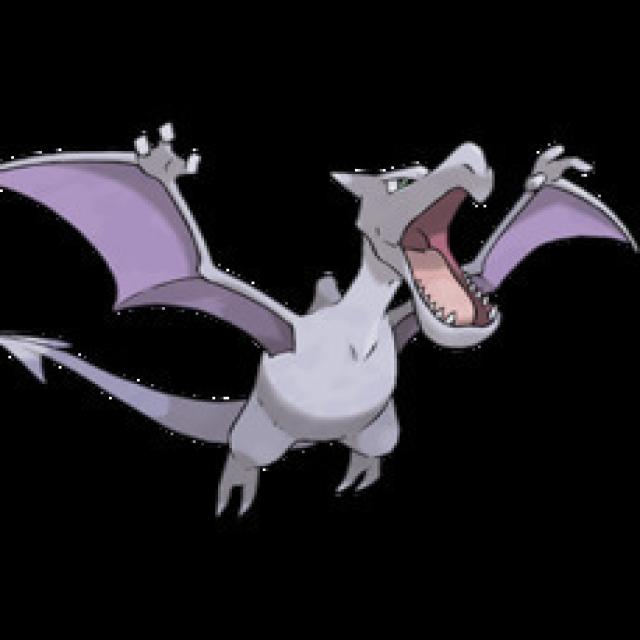Aerodactyl: (131, 134, 556, 495)
